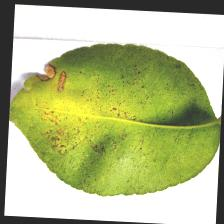canker: (31, 60, 125, 154)
